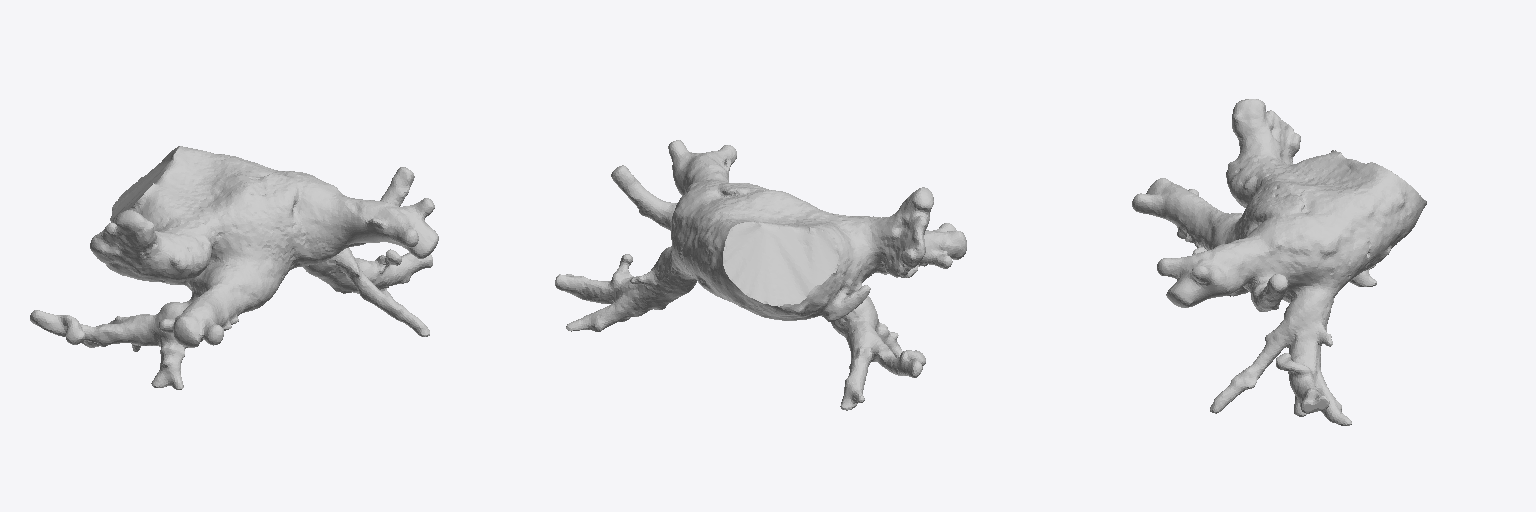
File: St_Pau_case_4.obj
3 views of the same model, side by side, from view 1: azimuth 30°, elevation 25°; view 2: azimuth 150°, elevation 25°; view 3: azimuth 270°, elevation 25° (orthographic).
Size of the model in its own units: 144 by 64.96 by 97.3.